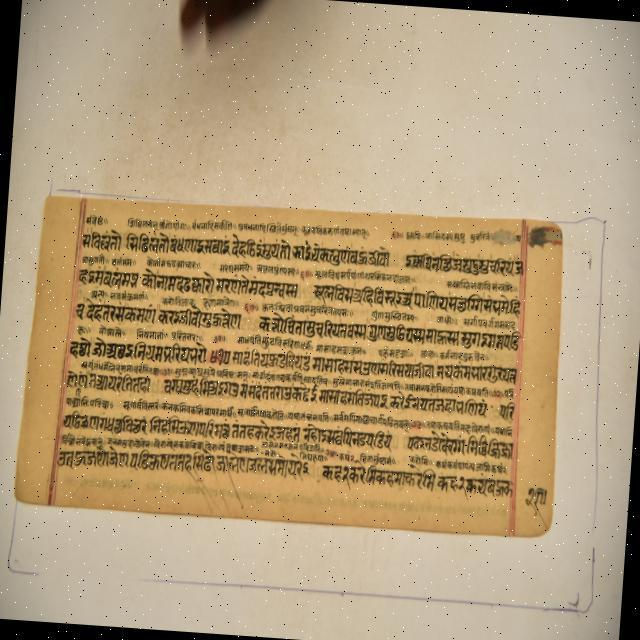text_paragraph: (14, 192, 562, 535)
